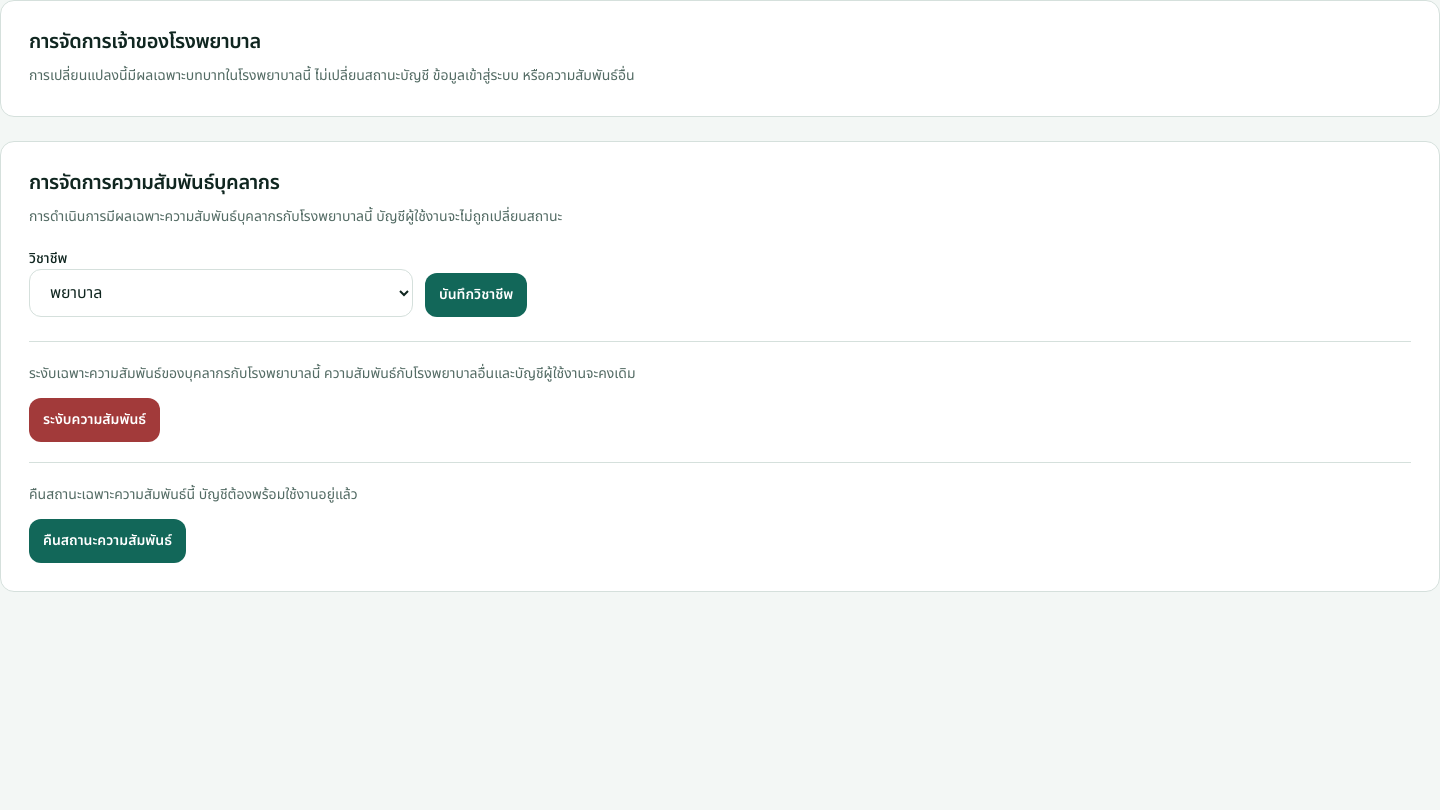
Scenario: Staff membership controls Toasts › suspend: treats returned UNAVAILABLE as unknown, locks the controls and never retries
Click the button "ระงับความสัมพันธ์".
click(95, 420)  # box [29, 398, 160, 442]
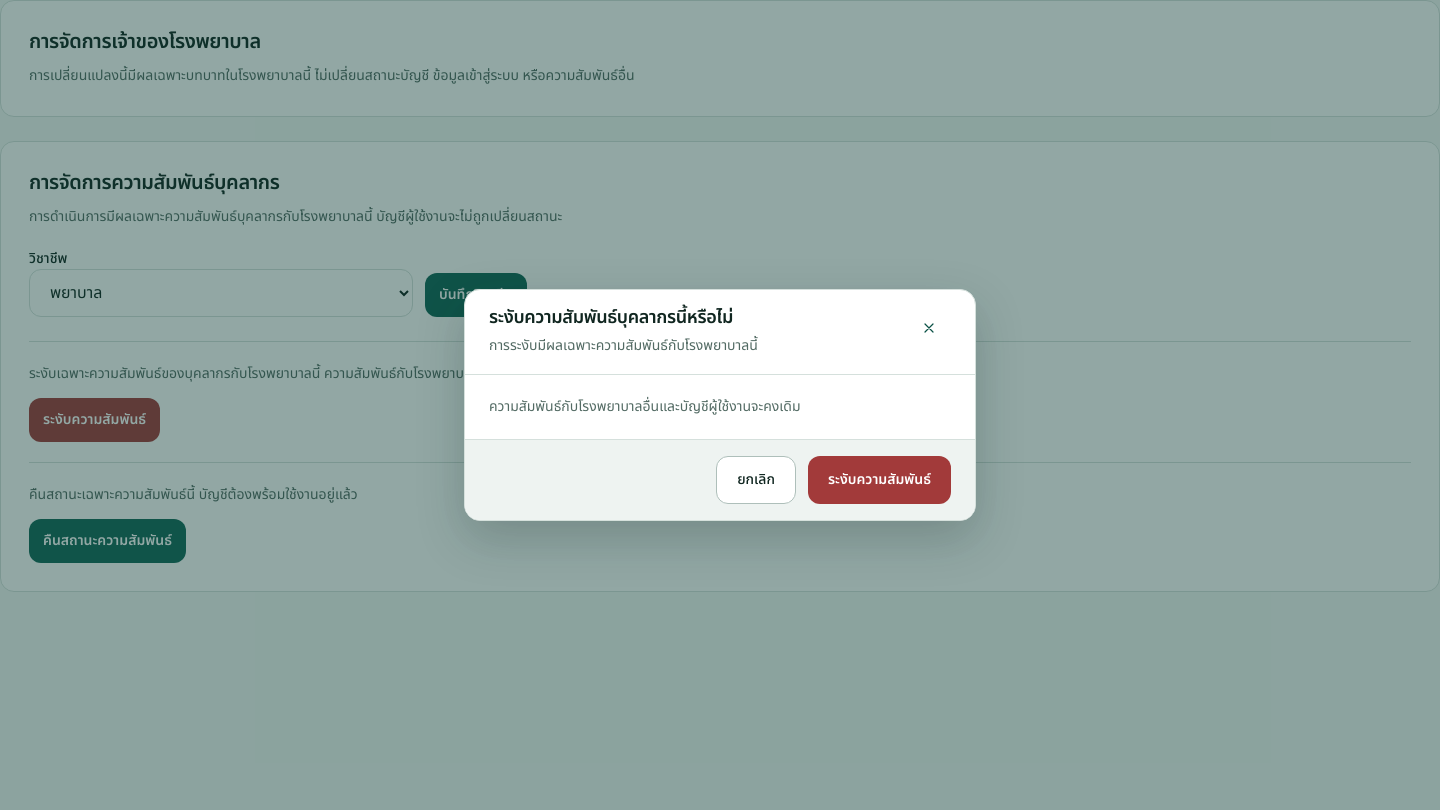
Click the button "ระงับความสัมพันธ์".
click(879, 480)  # box [808, 456, 951, 504]
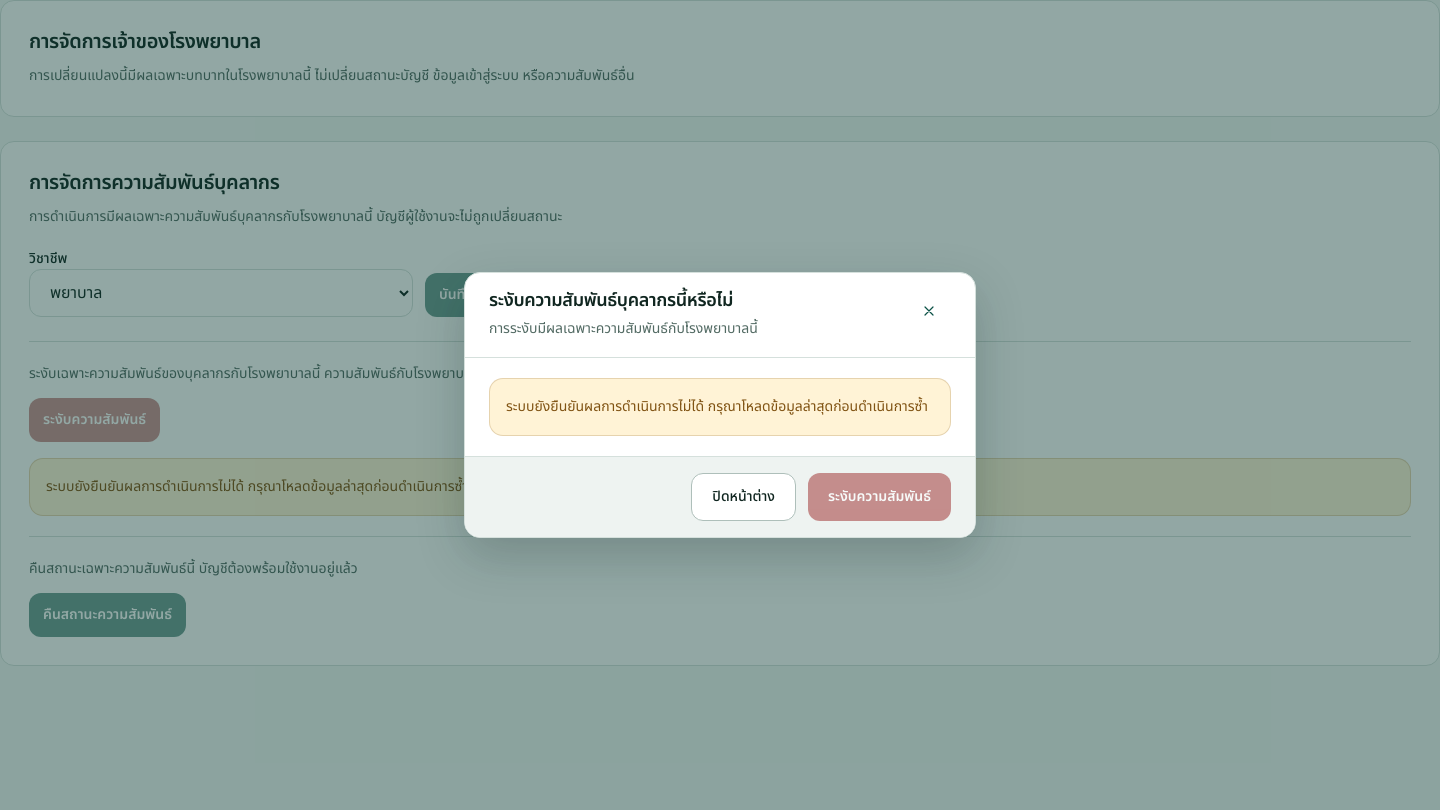
Expected: the text "ระบบยังยืนยันผลการดำเนินการไม่ได้" is shown, [46, 476, 468, 497]
